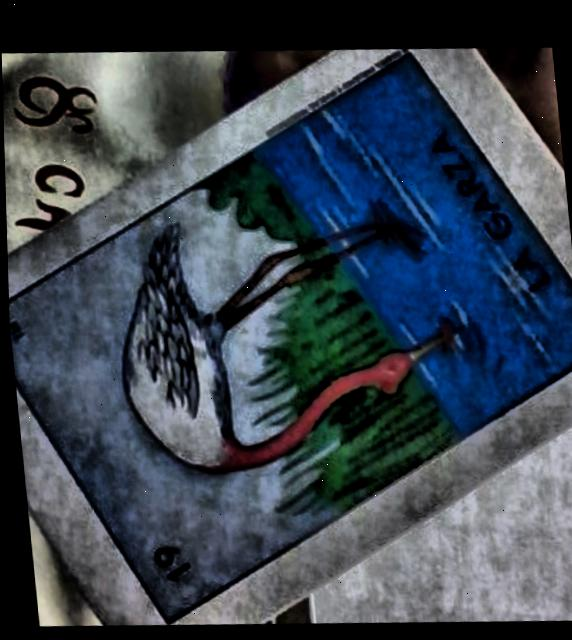La Garza: (7, 53, 572, 621)
